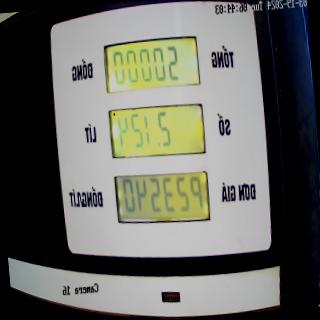screen: (100, 33, 214, 230)
